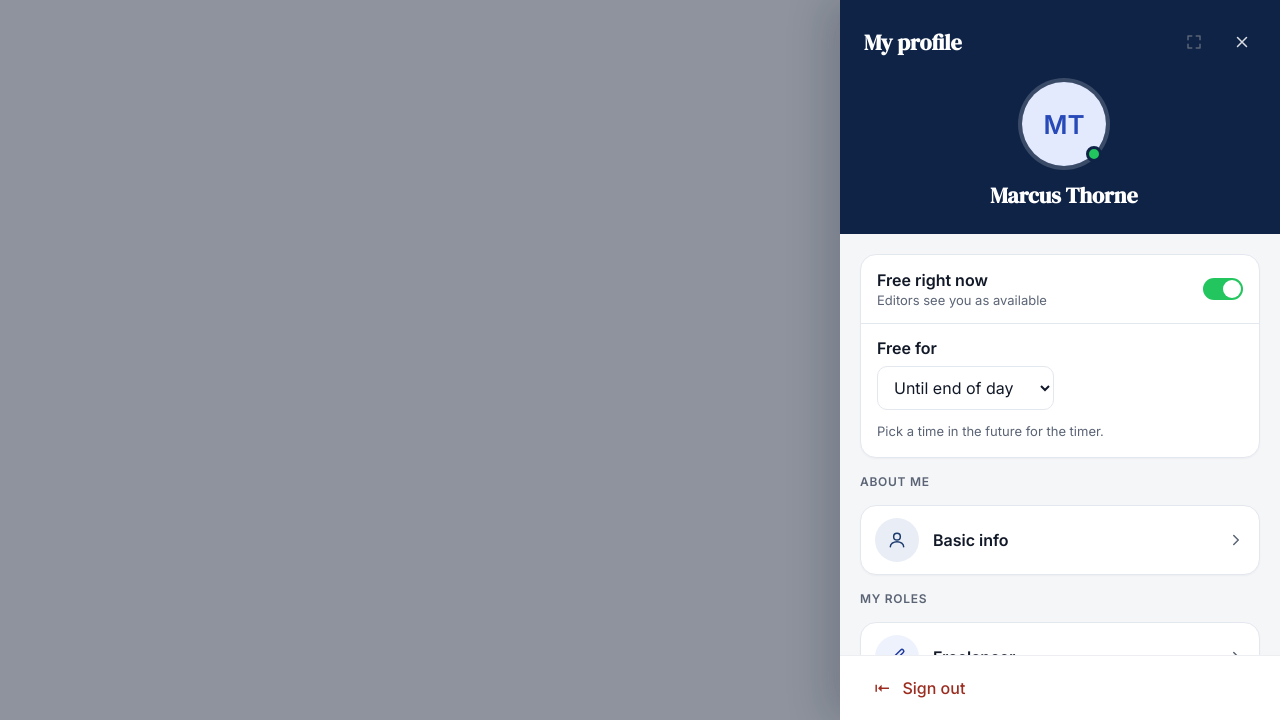
Test: ProfileFromUrl › renders the panel when there is a profile
Expected: the text "Marcus Thorne" is shown, 990,180 -> 1138,210
Click the button with aria-label "Open Basic info": (897, 540) 860,505 -> 1260,575
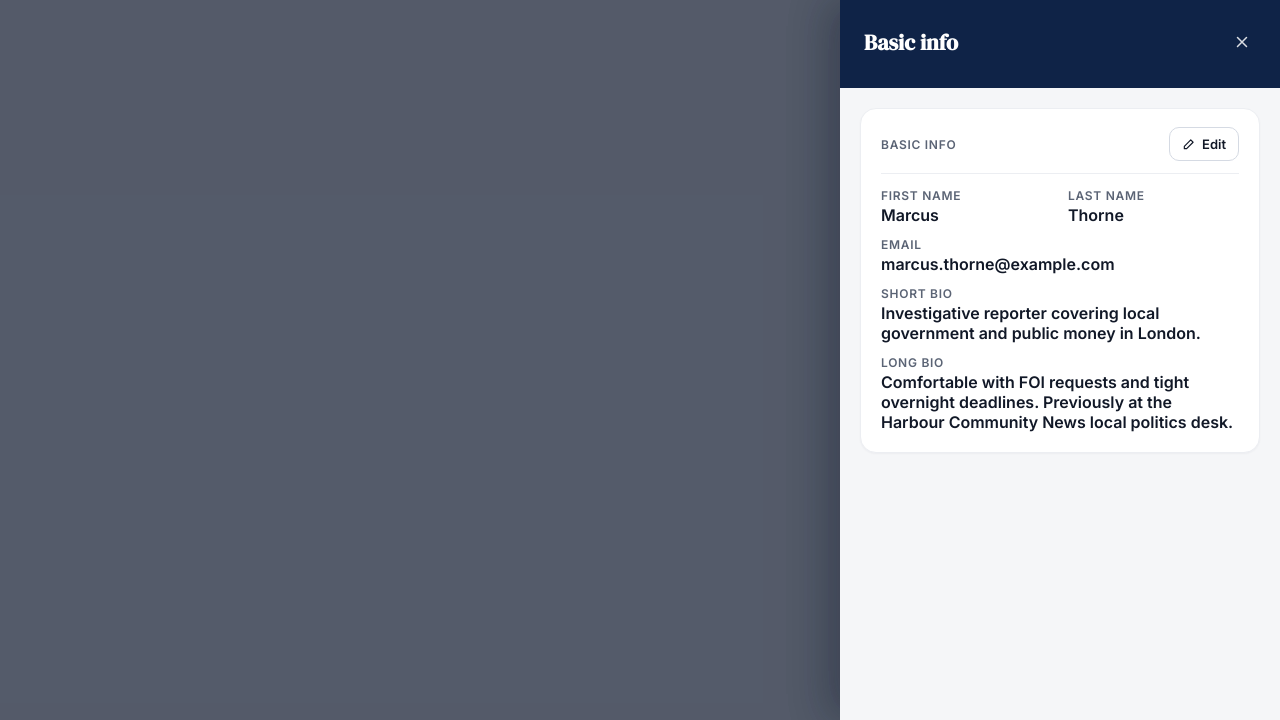
Expected: the button with aria-label "Edit basic info" is shown, 1169,127 -> 1239,161
